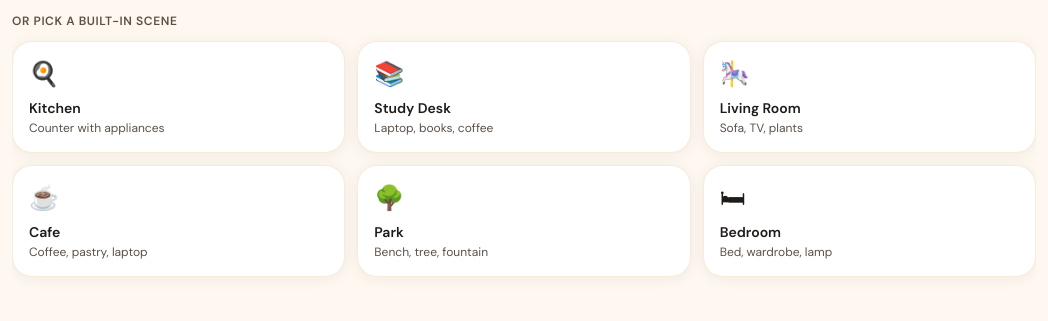
Test: SceneGallery › shows error when fetch throws
What coordinates should you click on to do the following:
click the button "🌳 Park Bench, tree, fountain"
I would click on:
 (431, 252)
Its box is [357, 165, 691, 277].
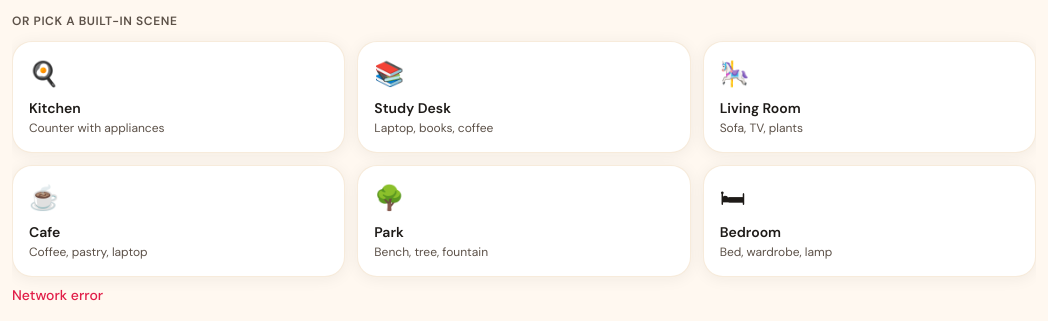
Result: the message "Network error" is shown at [12, 286, 103, 304]
